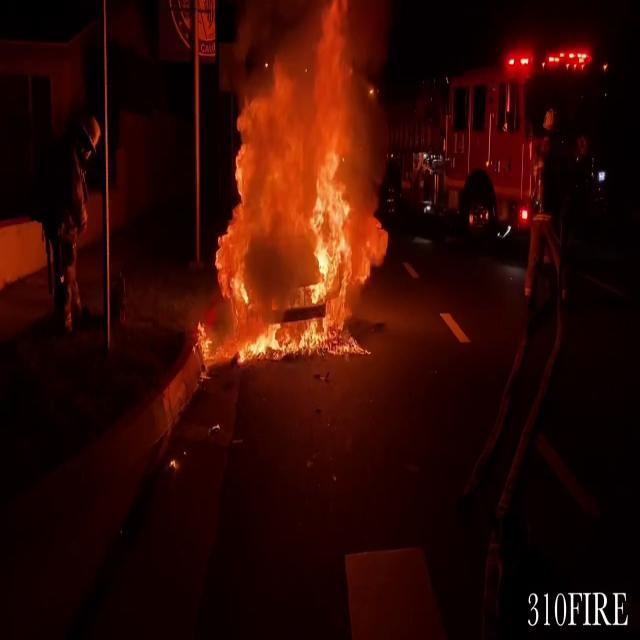Fire: (192, 8, 386, 364)
